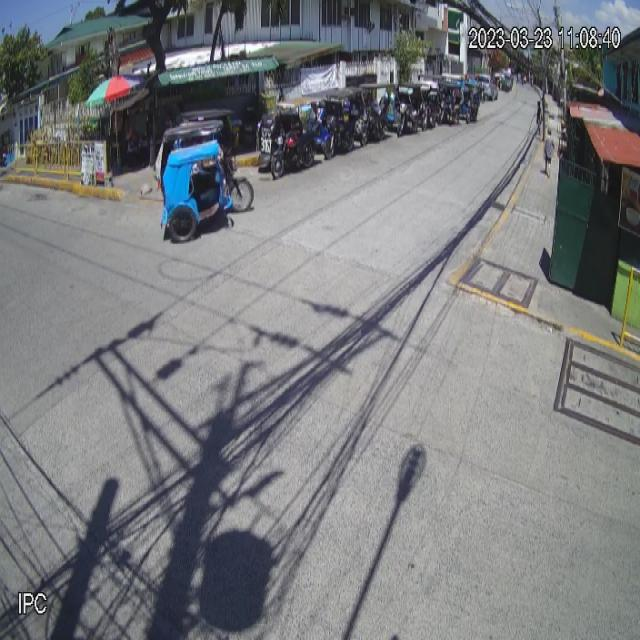Tricycle: (157, 114, 253, 242)
